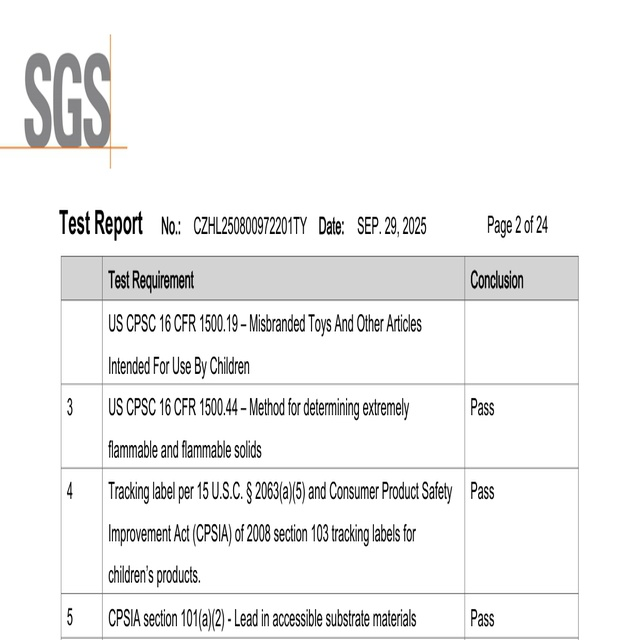sgs: (24, 53, 111, 148)
